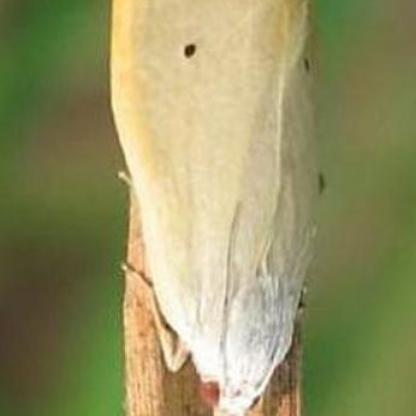stem-borer: (110, 0, 324, 416)
